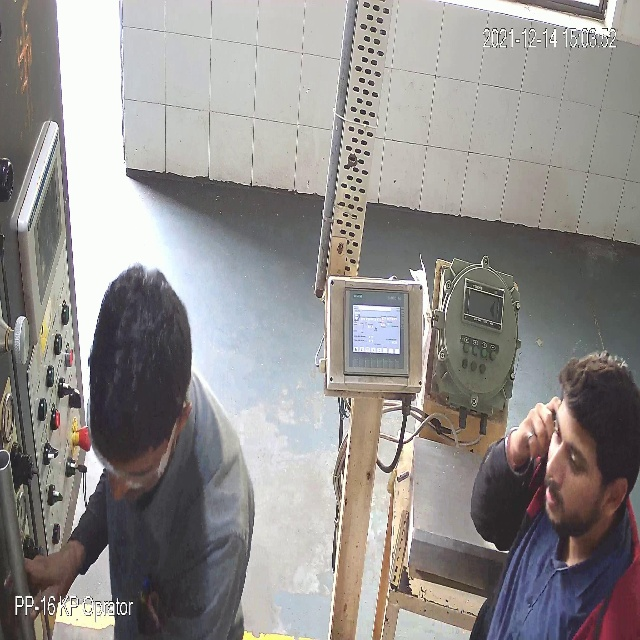Sin_mascara: (540, 460, 597, 539)
